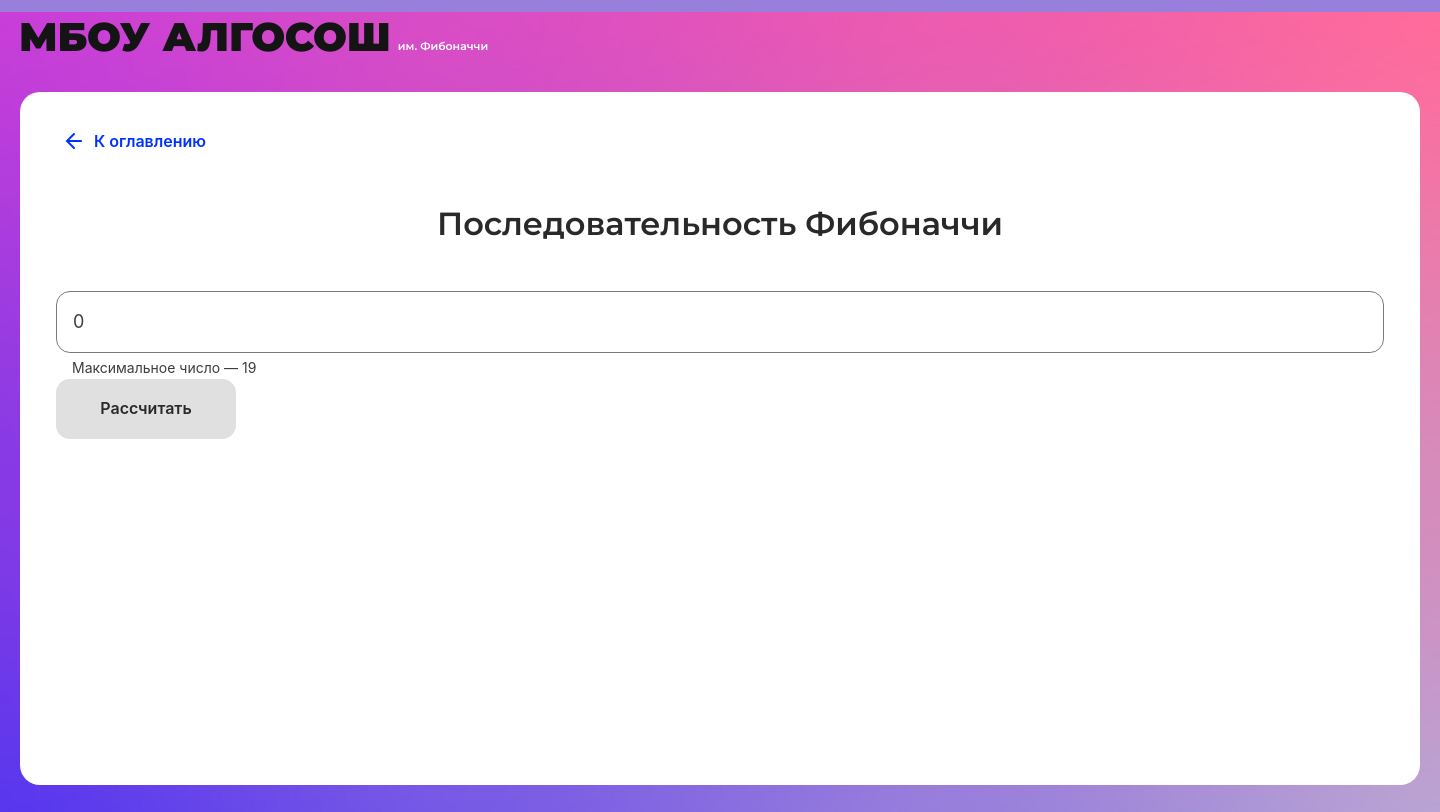
Test: Testing <<Fibonacci>> page › should current fibonacci list
In the number field: (720, 322) [56, 291, 1384, 353], type "8"
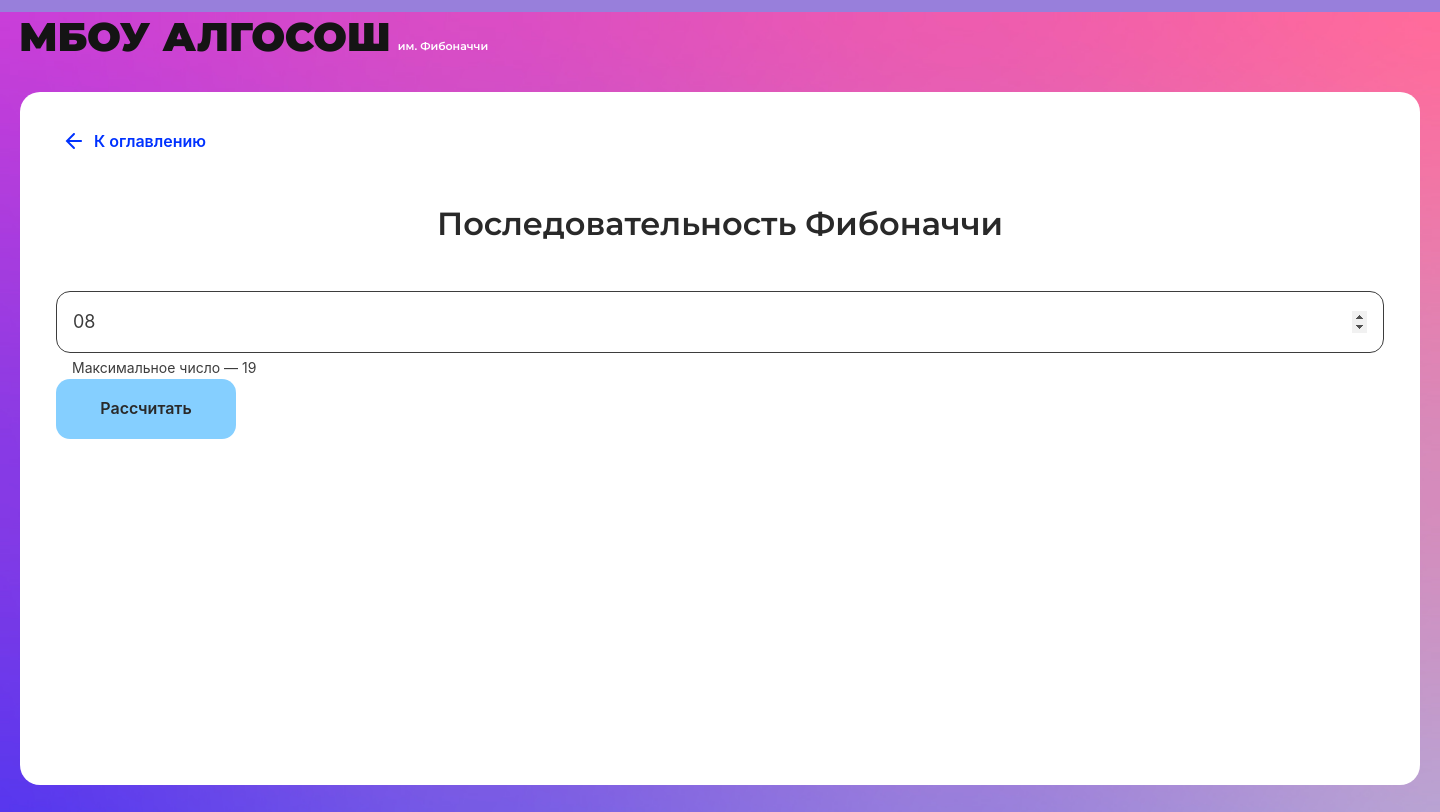
Expected: the element with id "fibonacci-button" is enabled
Click the button with id "fibonacci-button": (146, 409) [56, 379, 236, 439]
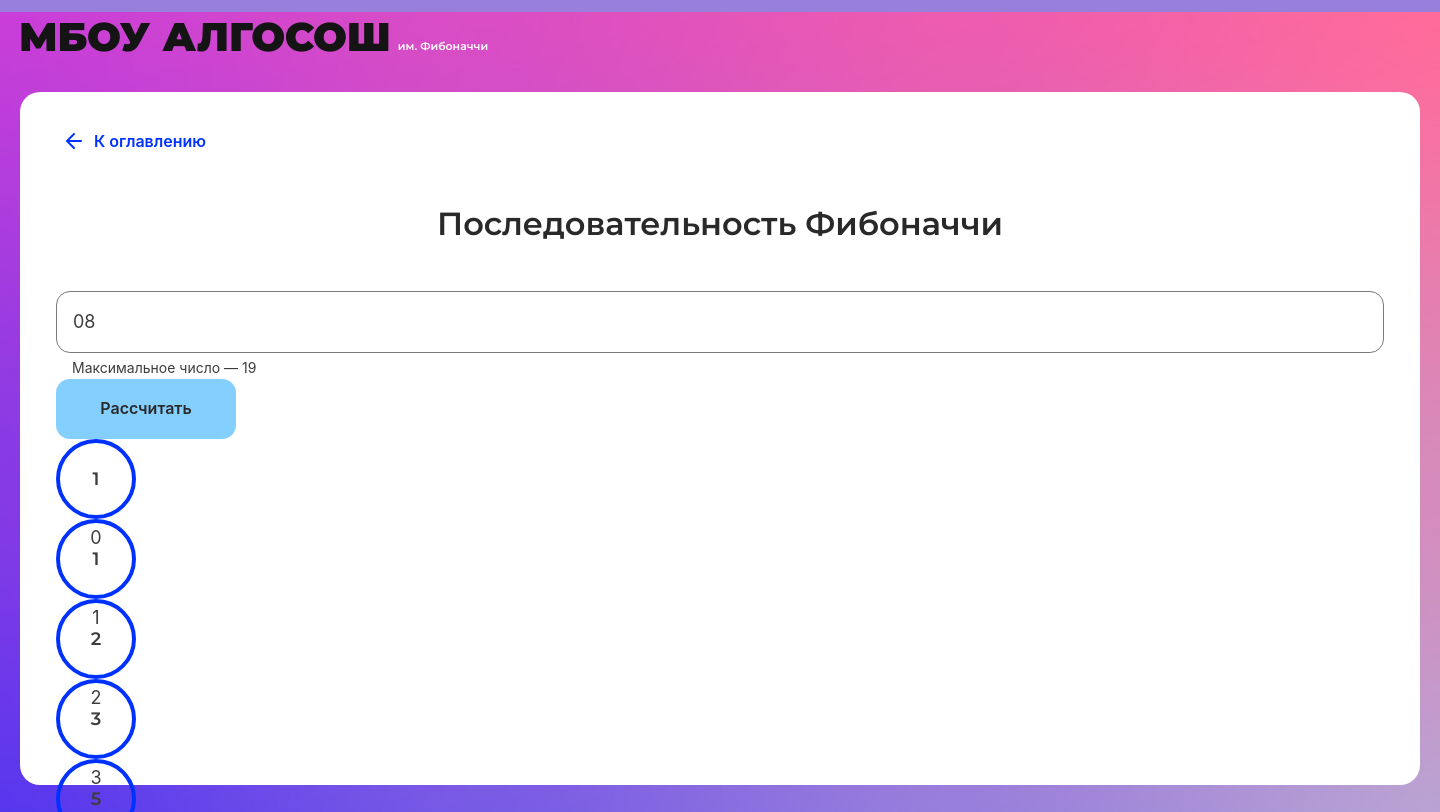
Now the 1st text "1" is shown, box [93, 468, 100, 490]
Now the 2nd text "1" is shown, box [93, 548, 100, 570]
Now the text "2" is shown, box [91, 628, 101, 650]
